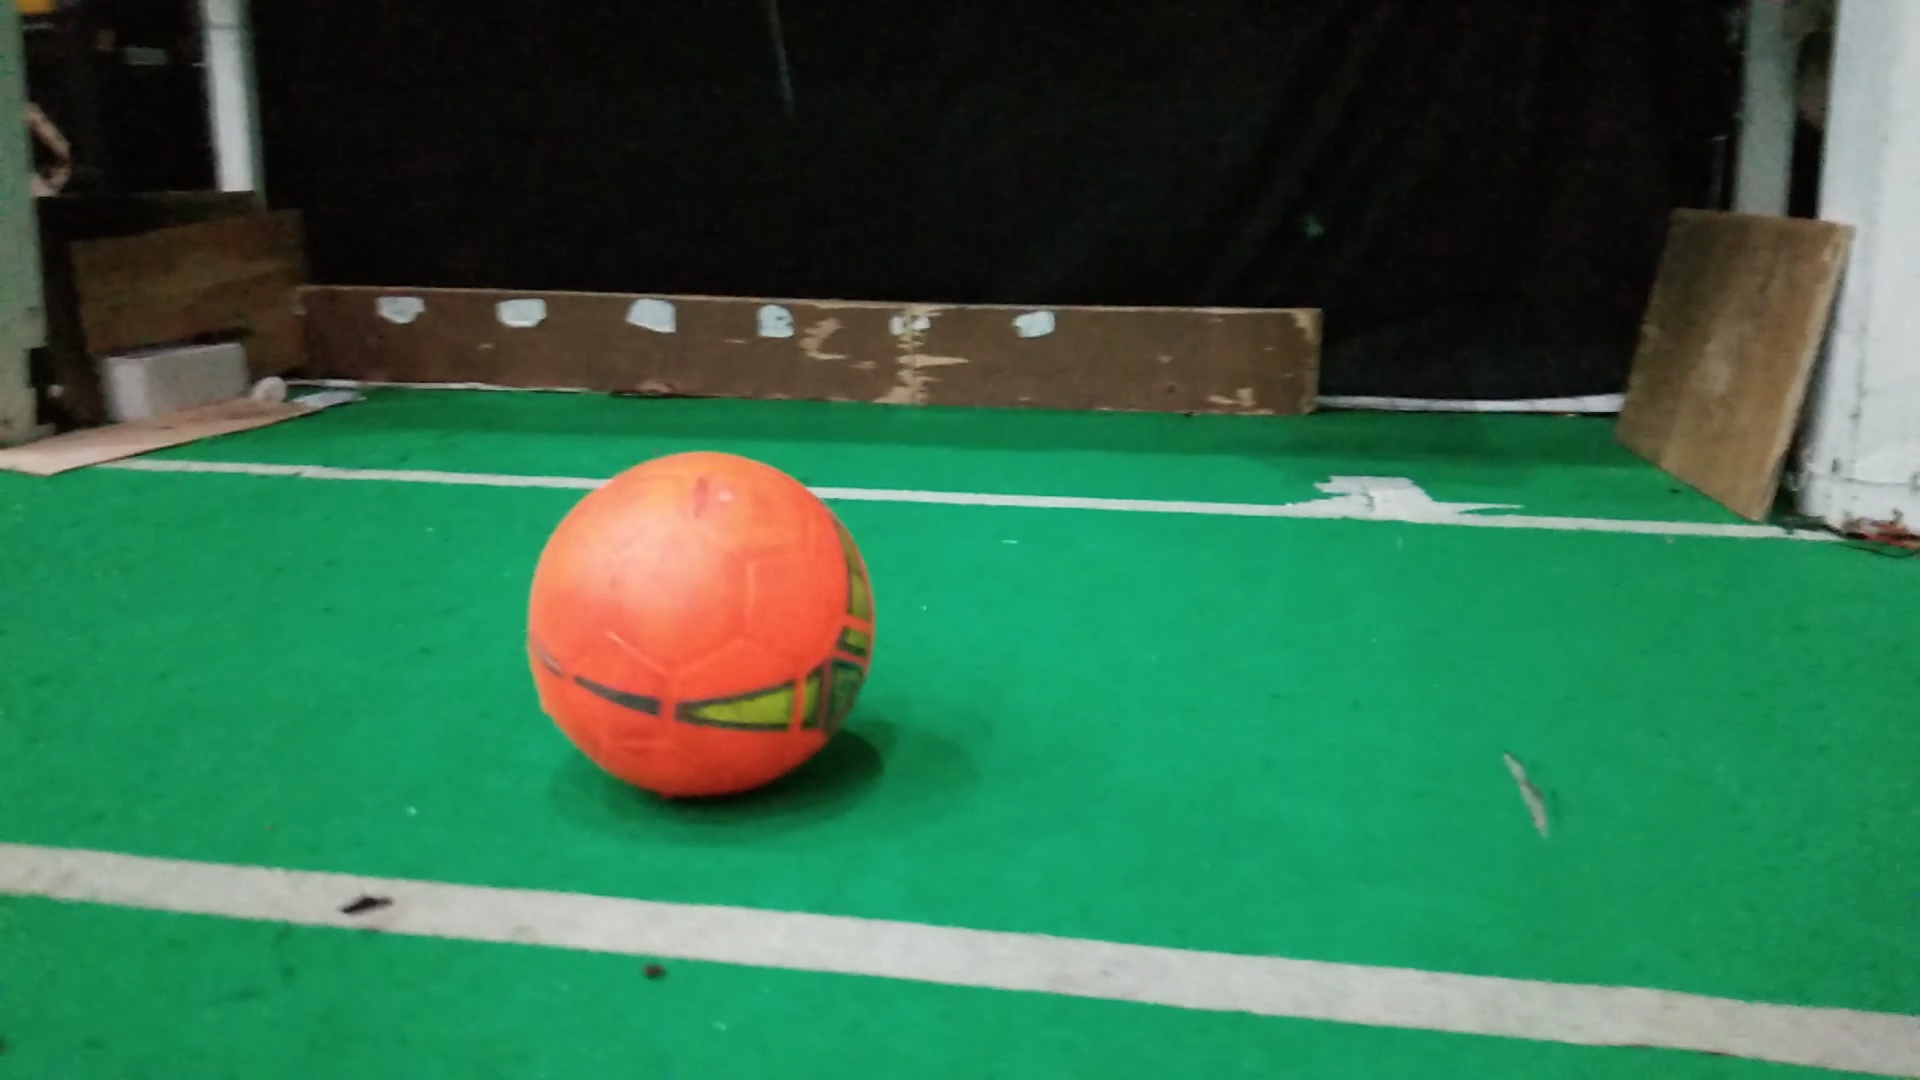bola: (516, 440, 887, 814)
